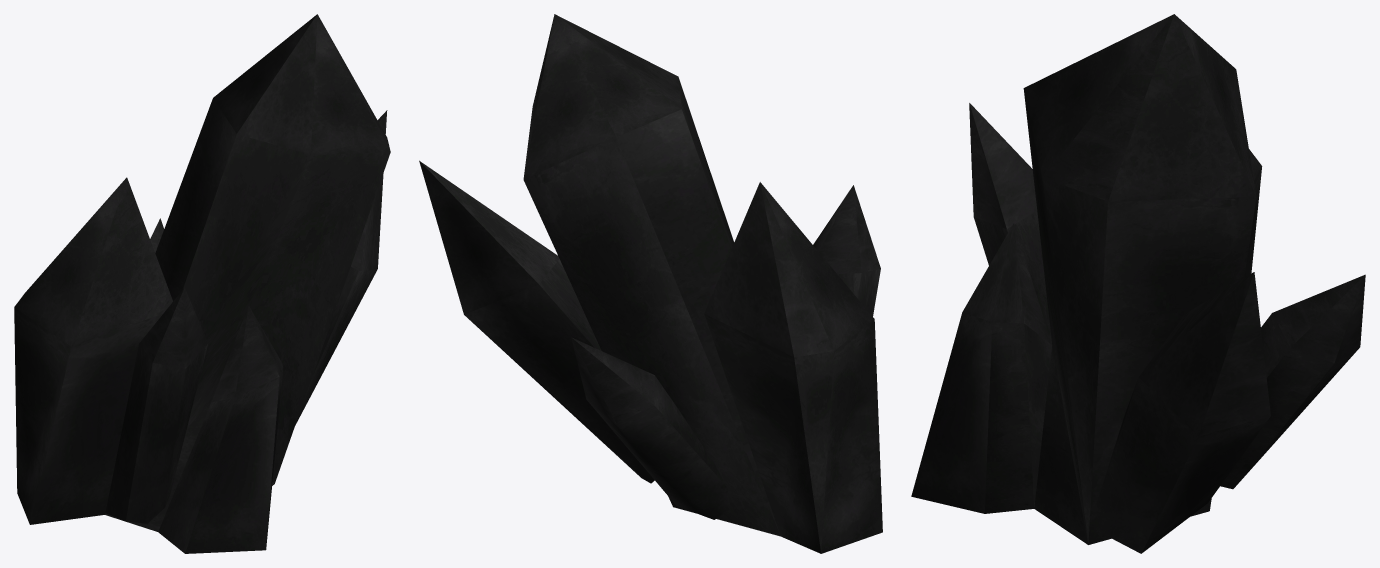
Rendered from crystalhuge_00.fbx.
3 views of the same model, side by side, from view 1: azimuth 30°, elevation 25°; view 2: azimuth 150°, elevation 25°; view 3: azimuth 270°, elevation 25° (orthographic). The views are drawn at different scales.
Parts seen in each view (by area): view 1: Geoset_0; view 2: Geoset_0; view 3: Geoset_0.
Part boxes in pixels (x1,y1,x2,y2): Geoset_0: (14,14,390,553); Geoset_0: (419,14,882,553); Geoset_0: (911,14,1365,553).
Size of the model in its own units: 3.81 by 3.95 by 2.78.
1 material, 1 textured.
